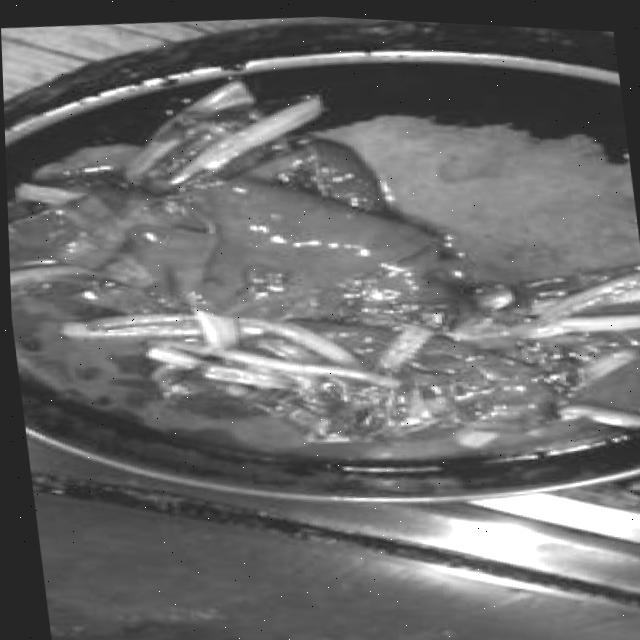蔬菜料理: (0, 0, 640, 544)
